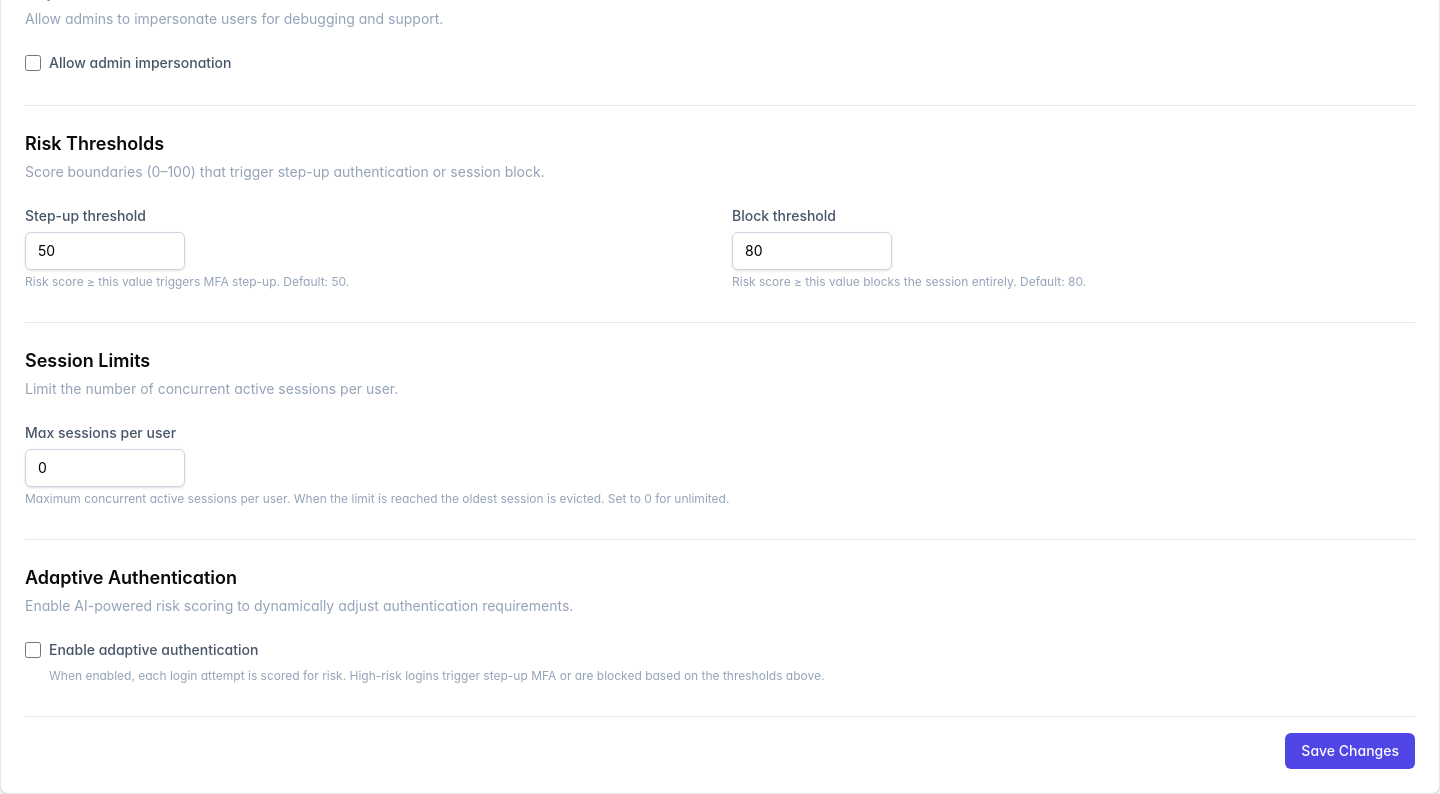
Test: SecuritySettingsForm › submits the full security form and shows a success banner
(page scrolled)
What coordinates should you click on to do the following:
click the button "Save Changes"
I would click on:
 (1350, 751)
Its box is [1285,733,1415,769].
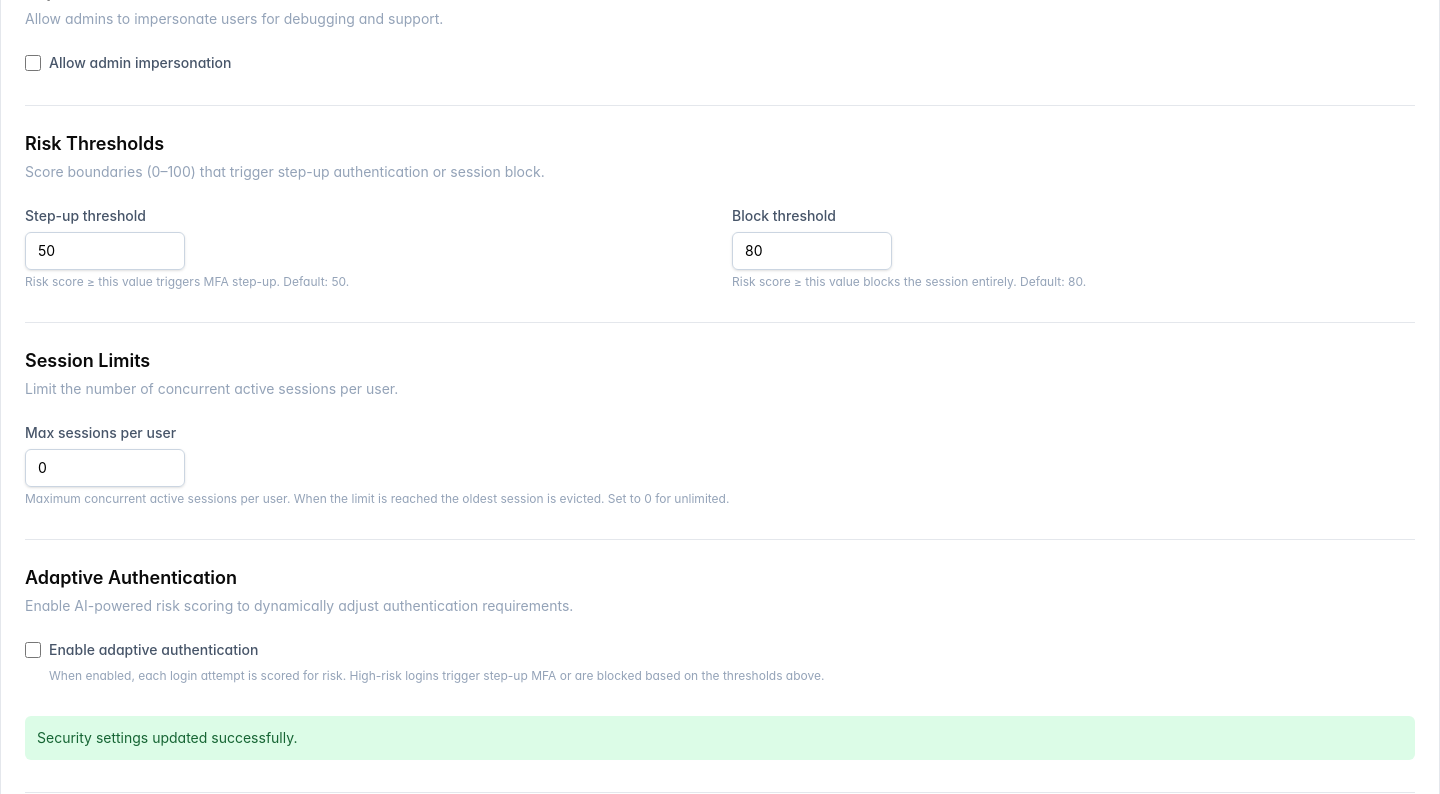
Check: the text "Security settings updated successfully." is shown, box [25,716,1415,760]
